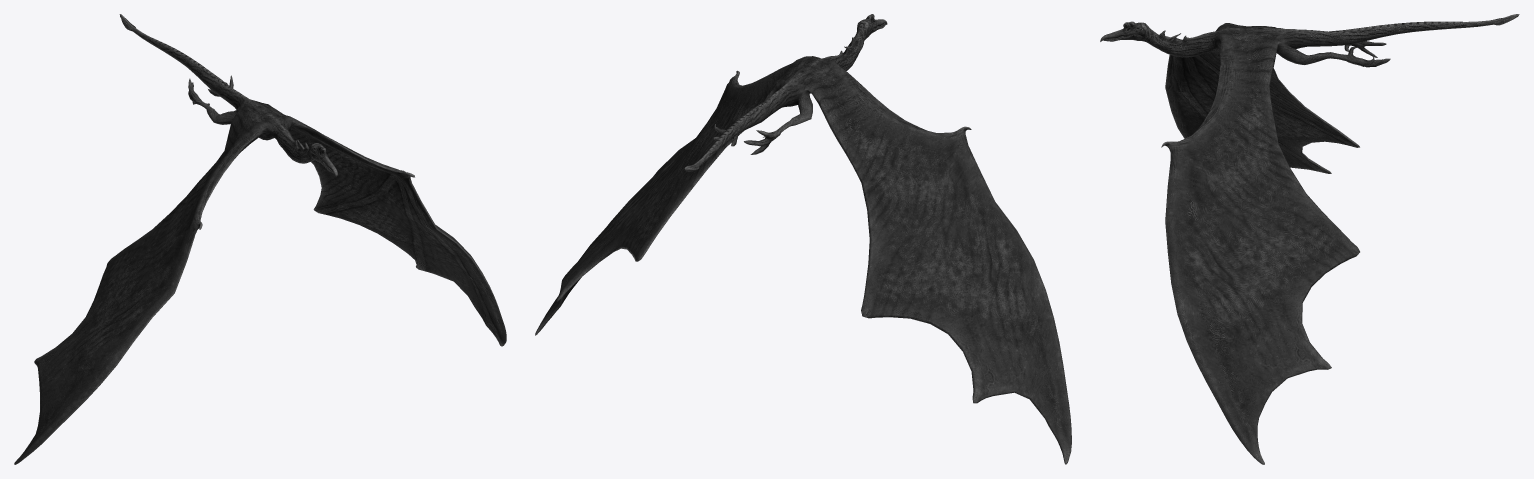
File: Fellbeast_Animate_Flying_25.obj
3 renders of one model, left to right at view 1: azimuth 30°, elevation 25°; view 2: azimuth 150°, elevation 25°; view 3: azimuth 270°, elevation 25°, orthographic. The views are drawn at different scales.
Visible parts, largest first — view 1: Fellbeast; view 2: Fellbeast; view 3: Fellbeast.
Part boxes in pixels (box(x1,y1,x2,y2)): Fellbeast: box(14, 14, 506, 464); Fellbeast: box(535, 14, 1071, 464); Fellbeast: box(1100, 14, 1519, 464).
Bounding box in the file's own units: 6.16 × 3.69 × 4.39.
